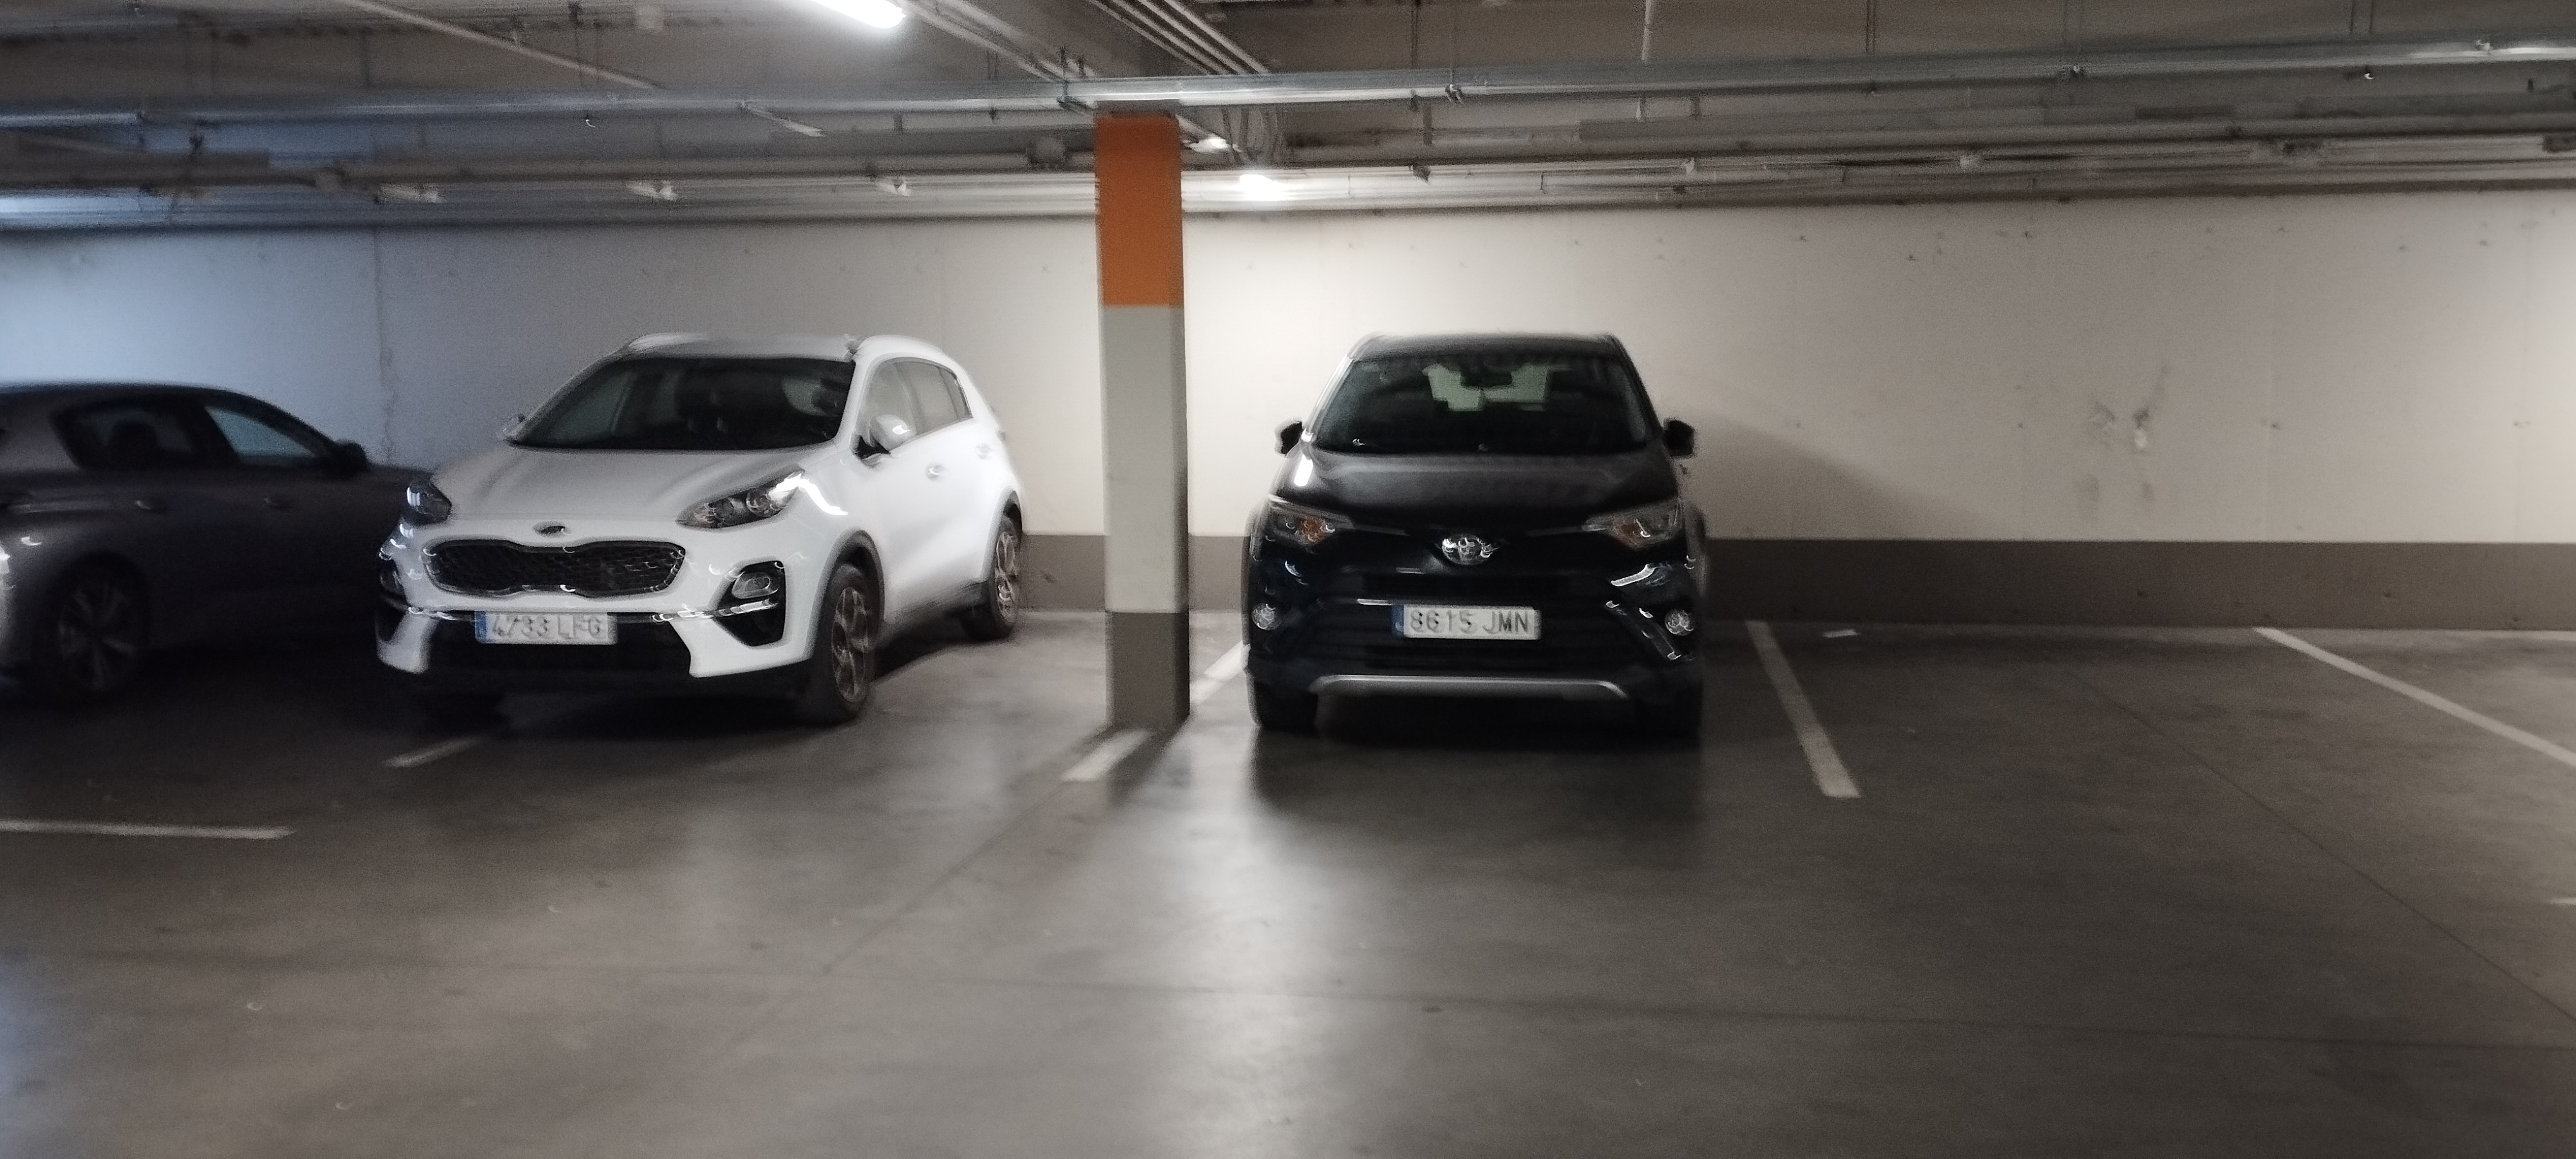Car: (378, 333, 1027, 721), (1246, 336, 1707, 726)
Plate: (1391, 602, 1537, 638), (472, 612, 615, 641)
